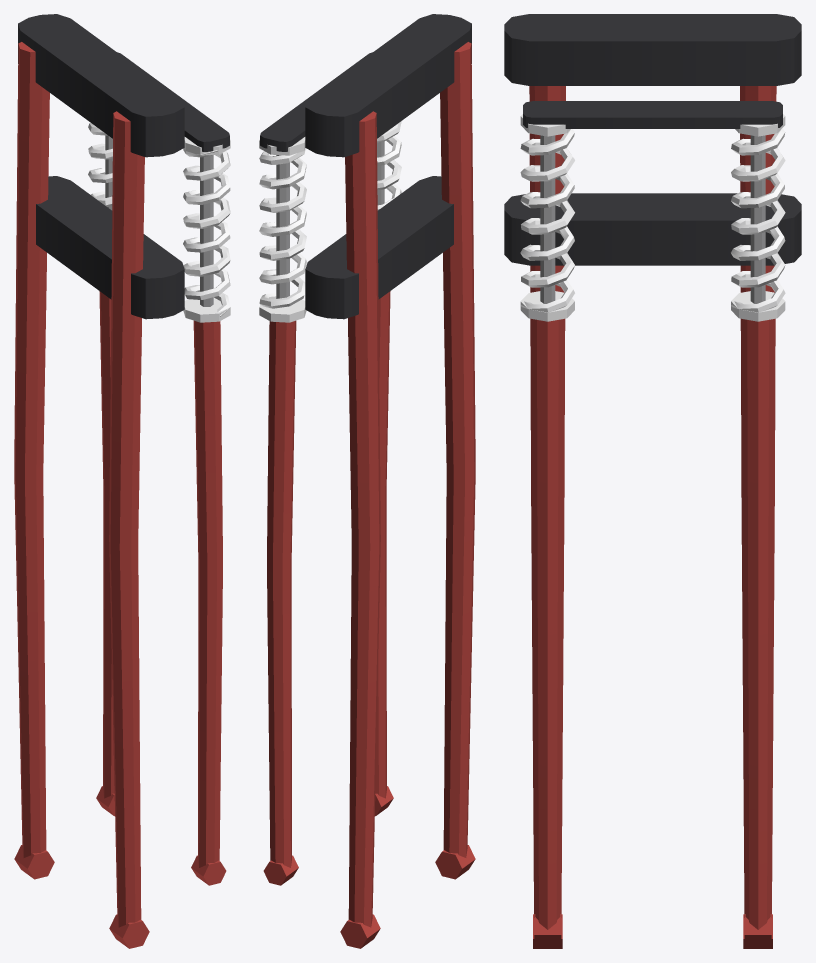
File: bobber_springer_short_upper_lod1.glb
The picture shows the model from 3 angles, left to right: view 1: azimuth 30°, elevation 25°; view 2: azimuth 150°, elevation 25°; view 3: azimuth 270°, elevation 25°; orthographic projection. The views are drawn at different scales.
Parts seen in each view (by area): view 1: bobber_springer_short_upper_lod1; view 2: bobber_springer_short_upper_lod1; view 3: bobber_springer_short_upper_lod1.
Boxes of the visible parts, <box> form: bobber_springer_short_upper_lod1: <box>14,14,230,948</box>; bobber_springer_short_upper_lod1: <box>259,14,475,948</box>; bobber_springer_short_upper_lod1: <box>504,14,801,948</box>.
Size of the model in its own units: 0.1217 by 0.8275 by 0.24.
